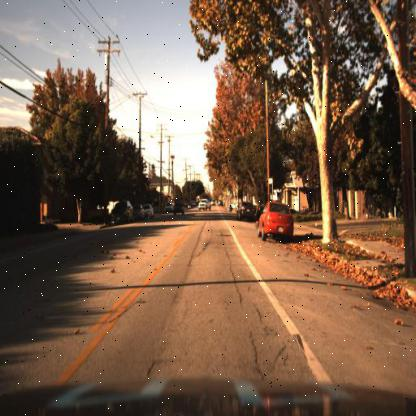car: (257, 200, 295, 249), (256, 198, 296, 244), (109, 195, 134, 229), (111, 198, 132, 224), (236, 198, 256, 224), (194, 192, 211, 215), (168, 198, 186, 216), (132, 200, 143, 223), (143, 200, 154, 221), (163, 201, 173, 213), (217, 198, 225, 209), (209, 196, 216, 208)
